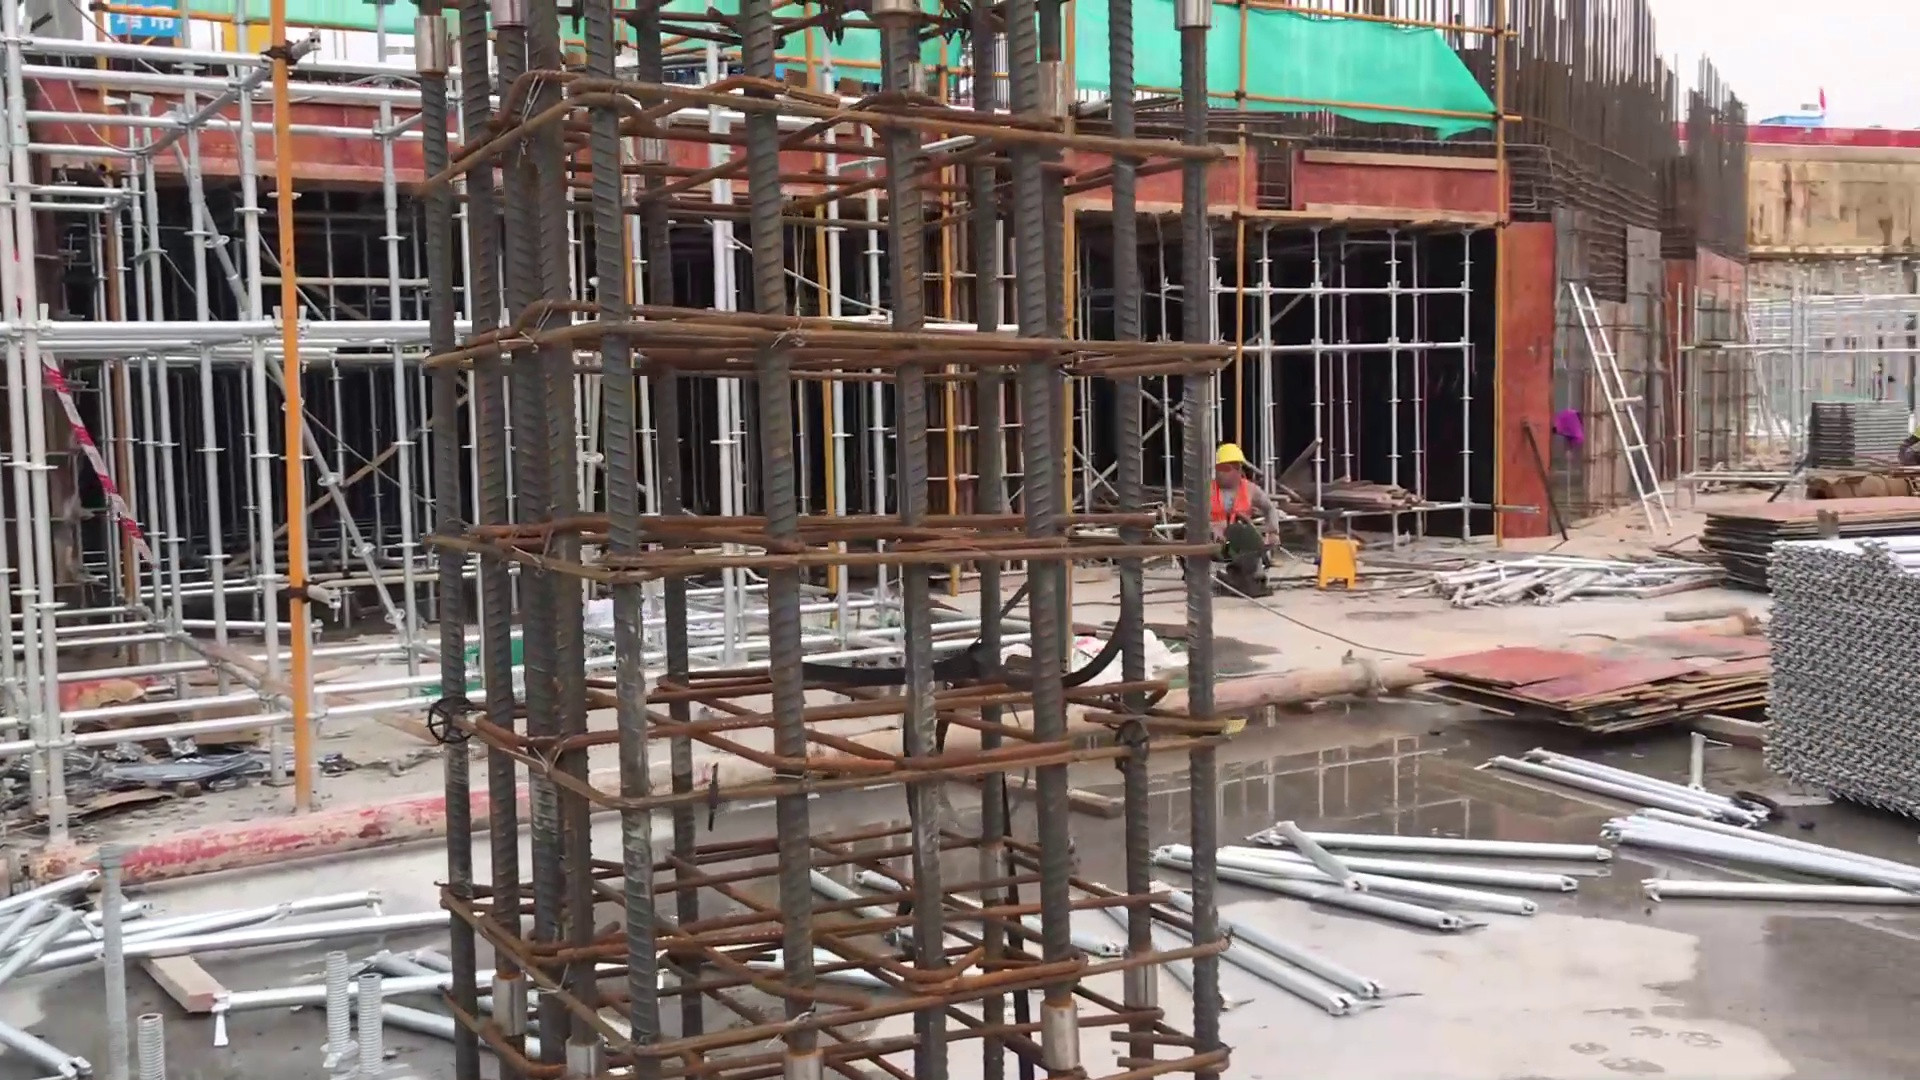board: (1408, 635, 1779, 749), (1698, 494, 1910, 601)
ebox: (1307, 533, 1365, 602)
helmet: (1213, 441, 1244, 470)
person: (1202, 443, 1280, 595)
scaffold: (1760, 526, 1920, 822), (1800, 397, 1919, 483)
vest: (1209, 481, 1256, 540)
